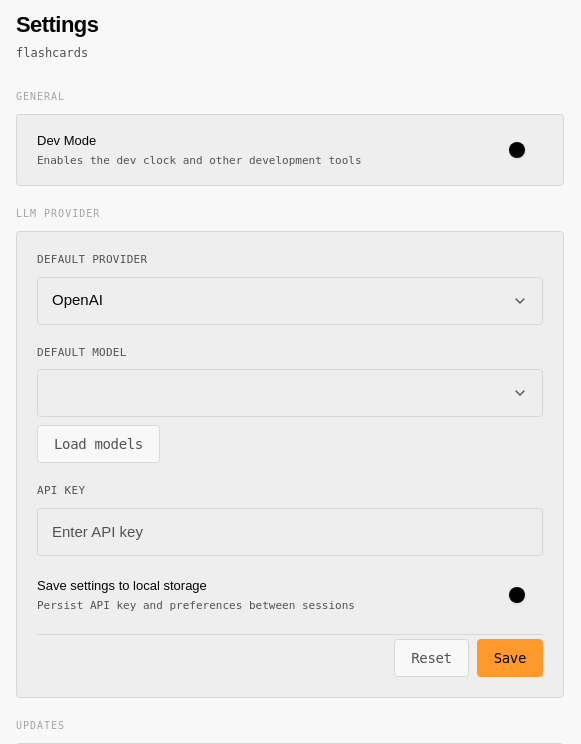
it: SettingsContent › loads available models with the current API key
In the password field labelled "API Key": x=290, y=532 top-left (37, 508), bottom-right (543, 556), type "sk-test"
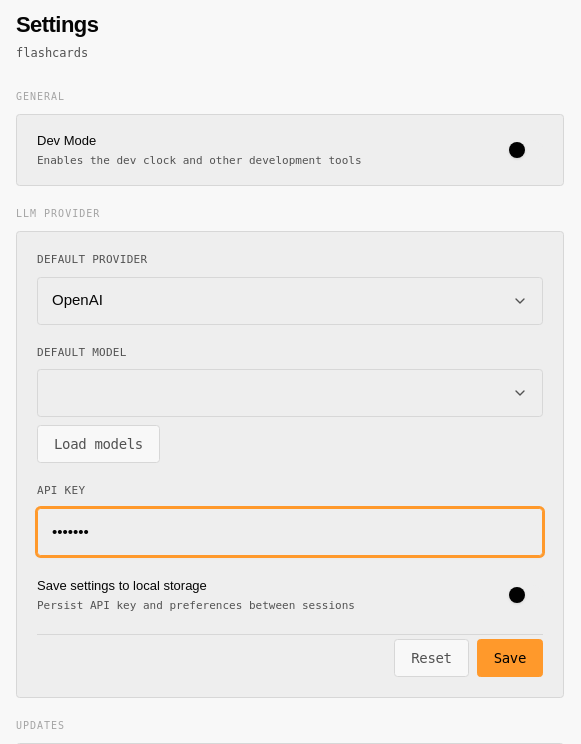
Click the button "Load models": x=98, y=444 top-left (37, 425), bottom-right (160, 463)
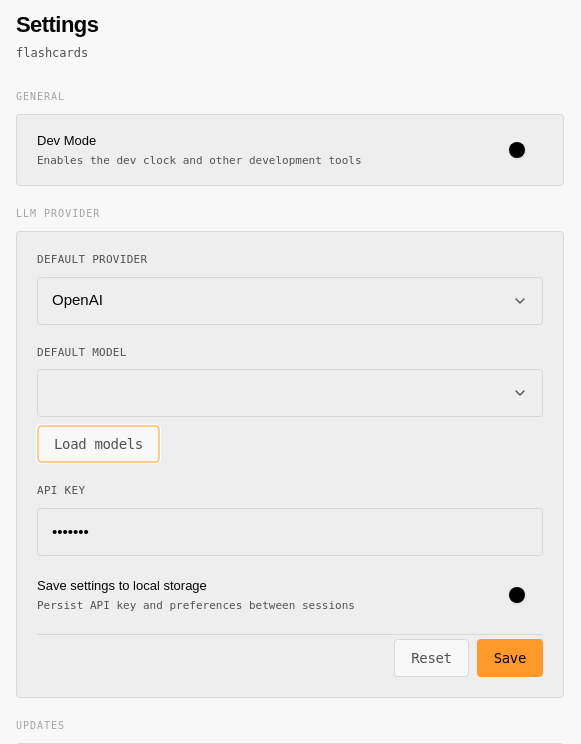
Click the dropdown named "Default model": x=520, y=393 top-left (37, 369), bottom-right (543, 417)
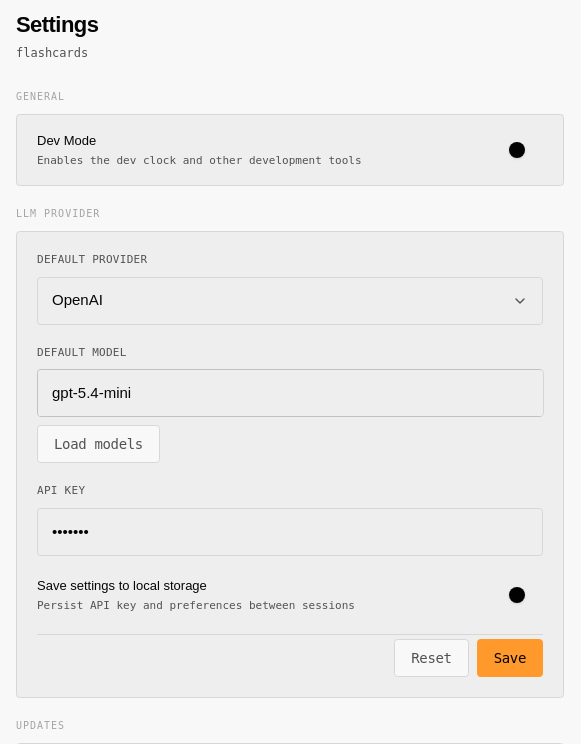
Now the option "gpt-5.4-mini" is shown, box top-left (38, 370), bottom-right (543, 416)
